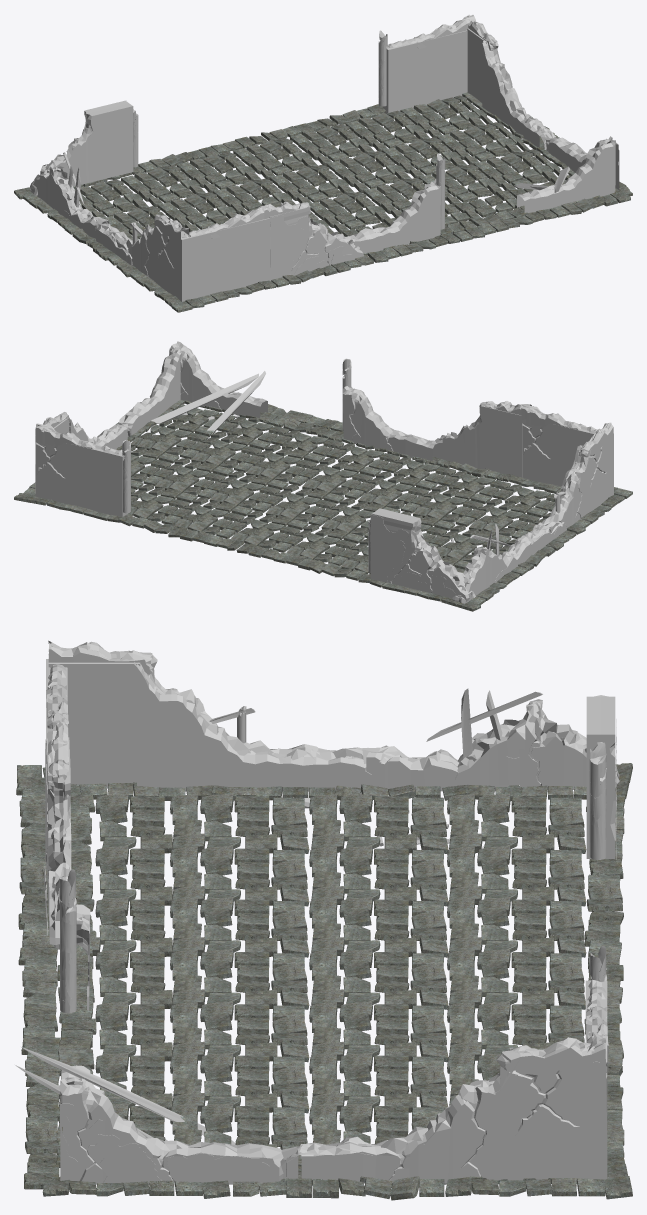
Rendered from JianZhu01.FBX.
3 views of the same model, one above another, from view 1: azimuth 30°, elevation 25°; view 2: azimuth 150°, elevation 25°; view 3: azimuth 270°, elevation 25° (orthographic). The views are drawn at different scales.
Visible parts, largest first — view 1: shitou, qiang01, dizhuan003, qiang02, muitou, mutou01; view 2: shitou, qiang01, qiang02, dizhuan003, mutou01, muitou; view 3: shitou, qiang01, dizhuan003, qiang02, muitou, mutou01, mutou04.
Boxes of the visible parts, left/top/right/bottom form: shitou: left=75, top=95, right=570, bottom=240; qiang01: left=29, top=14, right=619, bottom=301; dizhuan003: left=14, top=92, right=632, bottom=312; qiang02: left=30, top=15, right=618, bottom=280; muitou: left=132, top=30, right=445, bottom=243; mutou01: left=130, top=166, right=570, bottom=235; shitou: left=128, top=404, right=555, bottom=574; qiang01: left=35, top=343, right=613, bottom=603; qiang02: left=36, top=341, right=597, bottom=602; dizhuan003: left=14, top=399, right=632, bottom=611; mutou01: left=151, top=371, right=565, bottom=498; muitou: left=122, top=358, right=560, bottom=572; shitou: left=90, top=793, right=586, bottom=1166; qiang01: left=44, top=640, right=619, bottom=1184; dizhuan003: left=16, top=763, right=632, bottom=1200; qiang02: left=46, top=664, right=618, bottom=1184; muitou: left=59, top=706, right=606, bottom=1013; mutou01: left=15, top=708, right=310, bottom=1144; mutou04: left=426, top=688, right=542, bottom=758.
Size of the model in its own units: 1494 by 277 by 907.
